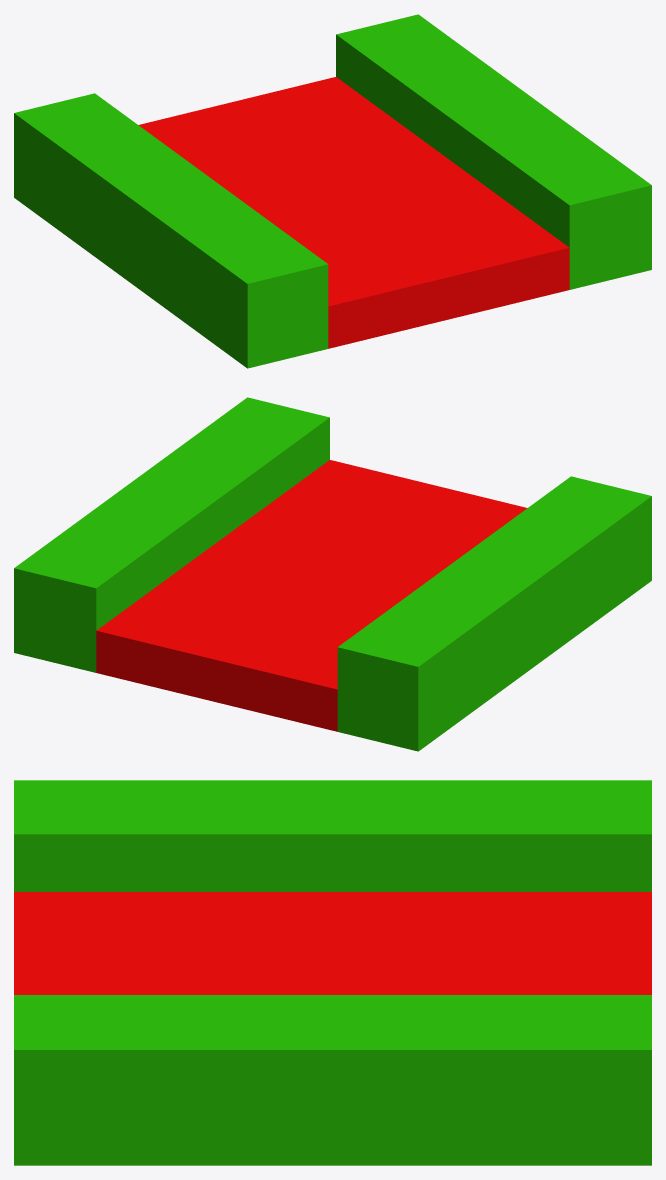
Rendered from modular_pieces_platform.FBX.
3 renders of one model, top to bottom at view 1: azimuth 30°, elevation 25°; view 2: azimuth 150°, elevation 25°; view 3: azimuth 270°, elevation 25°, orthographic. The views are drawn at different scales.
Visible parts, largest first — view 1: piece_new_platform; view 2: piece_new_platform; view 3: piece_new_platform.
Boxes of the visible parts, <box> form: piece_new_platform: <box>14,14,651,368</box>; piece_new_platform: <box>14,397,651,751</box>; piece_new_platform: <box>14,780,651,1165</box>.
Bounding box in the file's own units: 100 × 20 × 100.
